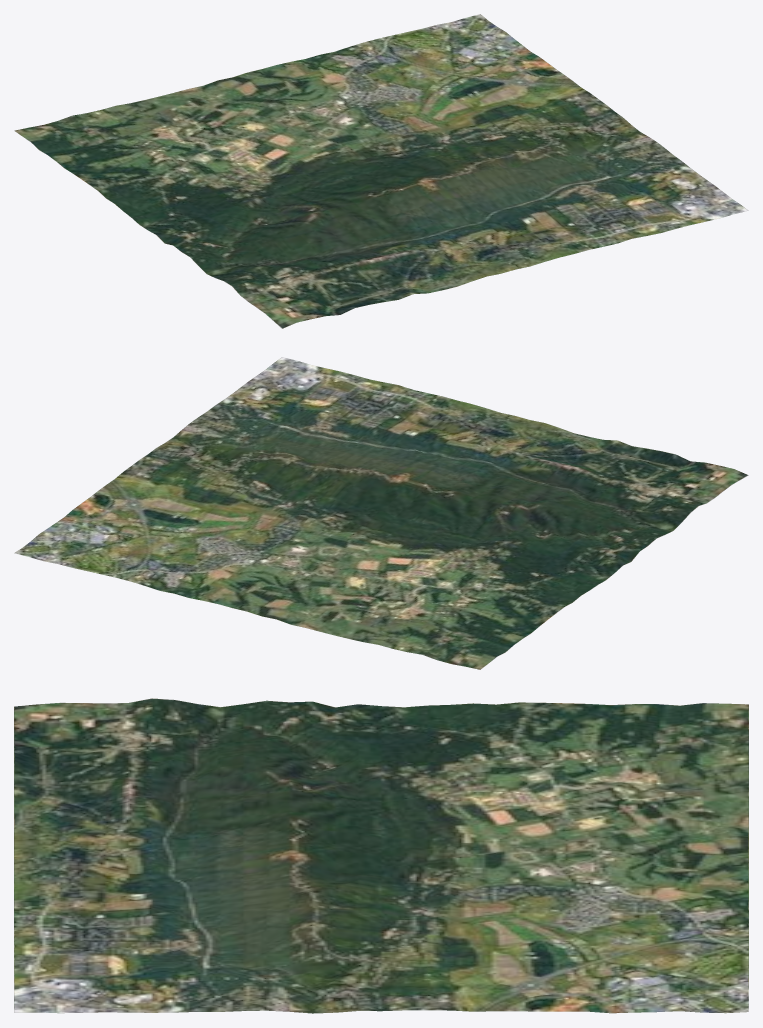
3 views of the same model, one above another, from view 1: azimuth 30°, elevation 25°; view 2: azimuth 150°, elevation 25°; view 3: azimuth 270°, elevation 25° (orthographic). The views are drawn at different scales.
Size of the model in its own units: 7808 by 210 by 7772.
1 material, 1 textured.
